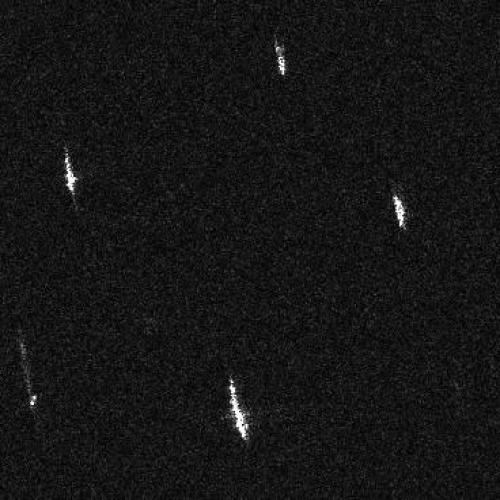ship: (228, 377, 250, 442), (20, 341, 38, 408), (62, 146, 80, 197), (391, 194, 407, 229), (273, 39, 288, 76)
